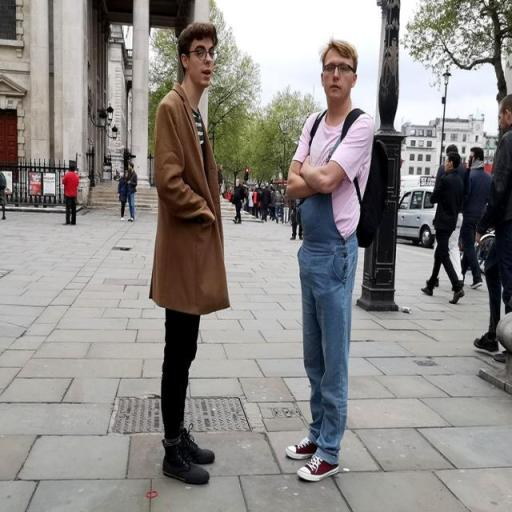person: (287, 41, 374, 485), (158, 28, 231, 489), (475, 90, 512, 367), (422, 151, 465, 308), (465, 149, 490, 290), (61, 163, 81, 229), (128, 164, 140, 224), (231, 179, 245, 228), (119, 172, 129, 223), (2, 170, 9, 222), (263, 183, 272, 222), (253, 187, 261, 218), (275, 191, 282, 224), (283, 193, 290, 224)
